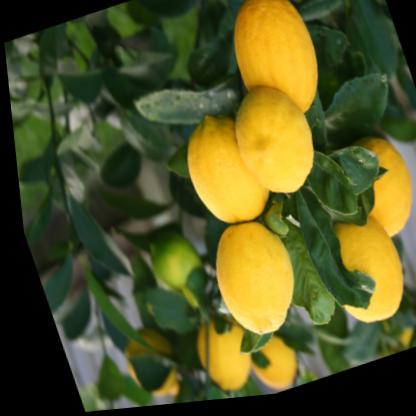lemon: (206, 0, 351, 148), (158, 98, 287, 253), (189, 208, 307, 353), (210, 76, 327, 212)
